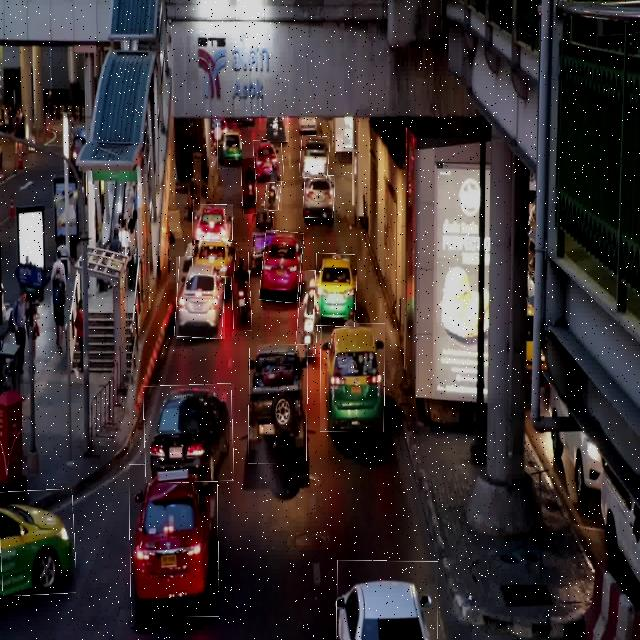Car: (130, 464, 219, 617), (144, 384, 234, 483), (336, 560, 438, 640), (0, 490, 75, 595), (320, 323, 385, 432), (176, 257, 225, 339), (314, 254, 357, 327), (261, 232, 303, 302), (193, 204, 233, 247), (192, 241, 236, 276), (304, 175, 335, 218), (254, 138, 284, 182), (300, 136, 329, 179), (217, 123, 242, 169), (268, 116, 290, 142)
Motorcycle: (297, 271, 321, 357), (231, 249, 251, 331), (266, 158, 282, 211), (242, 158, 256, 214)
Truck: (249, 344, 308, 464)
